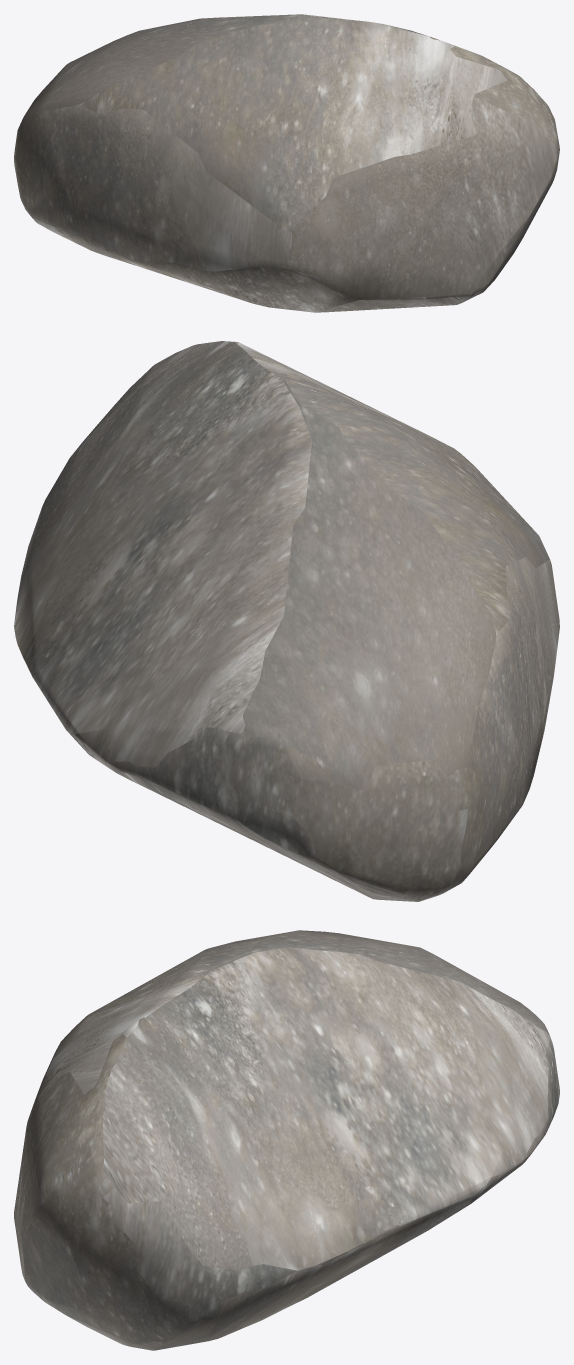
File: Temisto.glb
3 renders of one model, top to bottom at view 1: azimuth 30°, elevation 25°; view 2: azimuth 150°, elevation 25°; view 3: azimuth 270°, elevation 25°, orthographic. The views are drawn at different scales.
Visible parts, largest first — view 1: 1973 HA Durech; view 2: 1973 HA Durech; view 3: 1973 HA Durech.
Boxes of the visible parts, left/top/right/bottom form: 1973 HA Durech: left=14, top=14, right=559, bottom=312; 1973 HA Durech: left=14, top=341, right=559, bottom=901; 1973 HA Durech: left=14, top=930, right=559, bottom=1350.
Bounding box in the file's own units: 9 × 5.97 × 8.62.
Materials: 1 (1 with a texture image).
